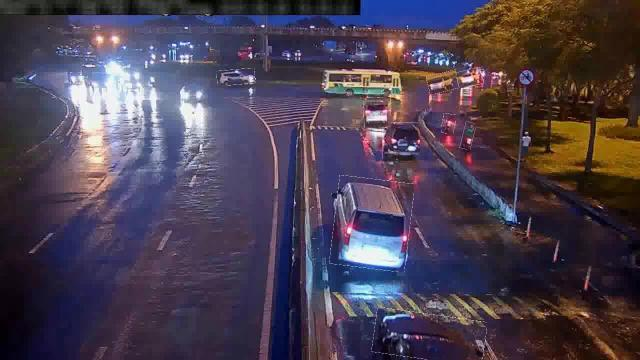Bike: (462, 122, 474, 150), (442, 114, 456, 134)
Car: (332, 178, 412, 270), (373, 310, 487, 360), (382, 122, 418, 160), (364, 96, 392, 128), (427, 72, 459, 92), (217, 69, 255, 85), (457, 68, 483, 88)
